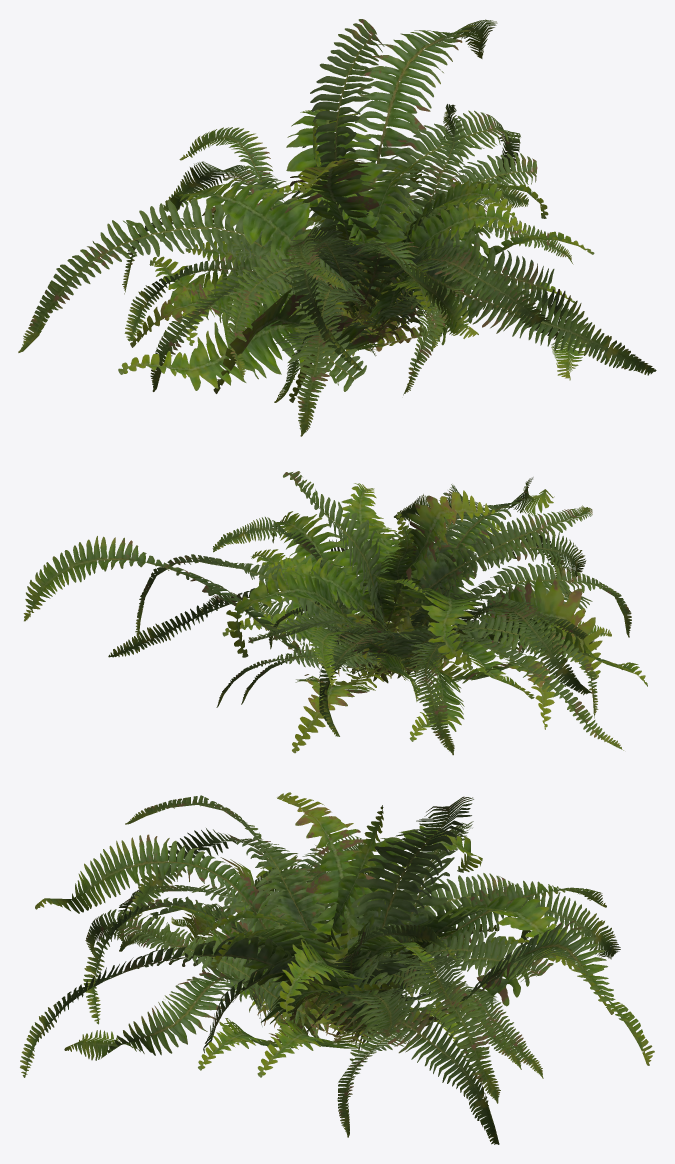
File: ferns.glb
3 views of the same model, one above another, from view 1: azimuth 30°, elevation 25°; view 2: azimuth 150°, elevation 25°; view 3: azimuth 270°, elevation 25° (orthographic). The views are drawn at different scales.
Parts seen in each view (by area): view 1: fernB, fernC, fernD, fernA; view 2: fernB, fernC, fernA, fernD; view 3: fernB, fernC, fernA, fernD.
Part boxes in pixels (x1,y1,x2,y2): fernB: (18, 19, 656, 436); fernC: (118, 119, 588, 402); fernD: (149, 178, 574, 402); fernA: (182, 104, 554, 351); fernB: (23, 471, 631, 753); fernC: (108, 484, 647, 755); fernA: (212, 517, 534, 707); fernD: (266, 519, 611, 741); fernB: (20, 792, 654, 1137); fernC: (64, 795, 606, 1144); fernA: (119, 865, 553, 1078); fernD: (131, 860, 537, 1070).
Size of the model in its own units: 0.9897 by 0.4277 by 0.8937.
1 material, 1 textured.
